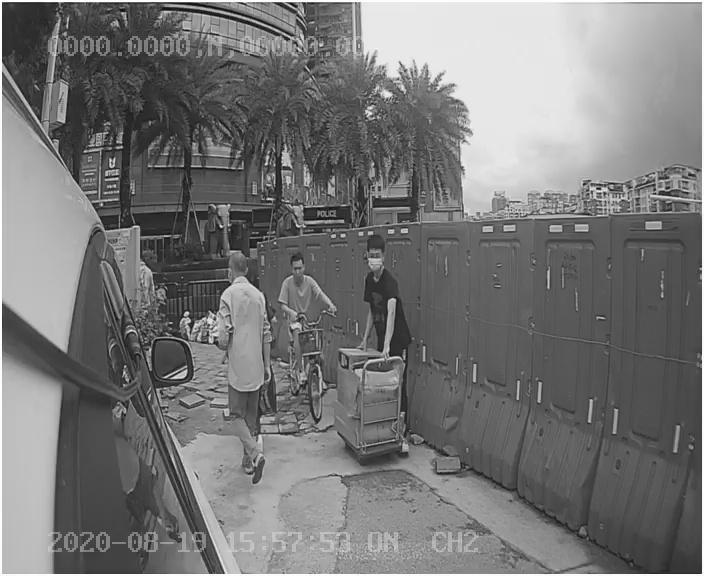person: (207, 246, 281, 489)
